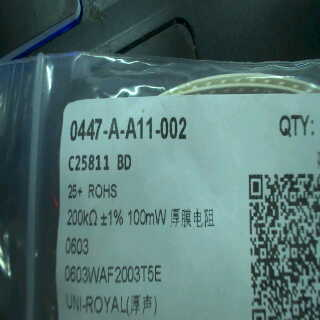200kR: (65, 204, 98, 232)
